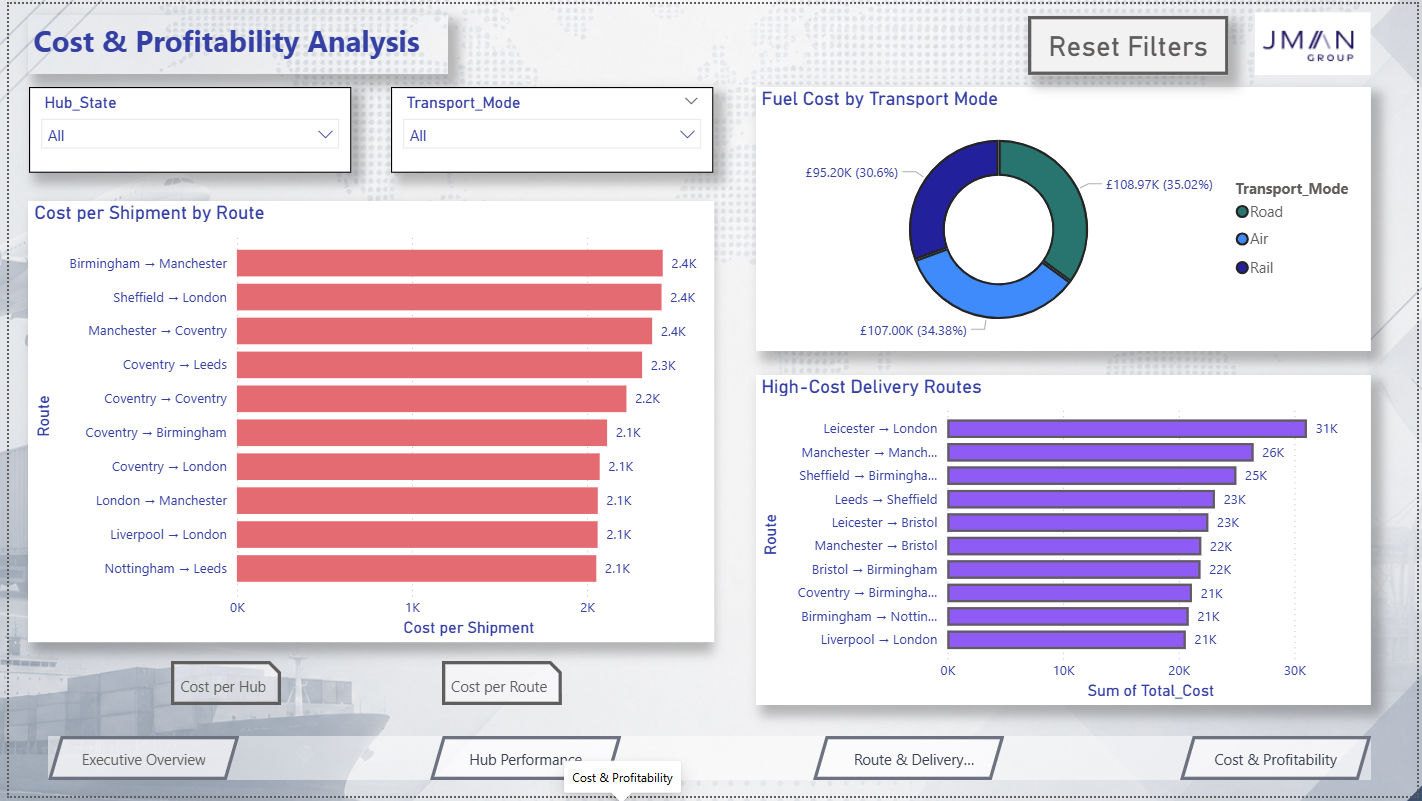

Layout of this report page (visuals, bound fields, positions):
{"tool":"powerbi","page":{"name":"Cost & Profitability","canvas":[1280,720],"ordinal":3},"visuals":[{"type":"clusteredBarChart","title":"High-Cost Delivery Routes","fields":{"Category":["Fact_Shipments.Route"],"Y":["Sum(Fact_Shipments.Total_Cost)"]},"box":[679,337,559,300],"z":0},{"type":"actionButton","box":[35,665,174,40],"z":0,"group":"g1"},{"type":"clusteredColumnChart","title":"Cost per Shipment by Hub","fields":{"Category":["Dim_hub.Hub_City"],"Y":["Fact_Shipments.Cost per Shipment"]},"box":[17,179,613,401],"z":1000},{"type":"actionButton","box":[382,665,174,40],"z":1000,"group":"g1"},{"type":"clusteredBarChart","fields":{"Category":["Fact_Shipments.Route"],"Y":["Fact_Shipments.Cost per Shipment"]},"box":[18,179,623,401],"z":2000},{"type":"actionButton","box":[730,665,174,40],"z":2000,"group":"g1"},{"type":"donutChart","title":"Fuel Cost by Transport Mode","fields":{"Category":["Fact_Shipments.Transport_Mode"],"Y":["Sum(Fact_Shipments.Fuel_Cost)"]},"box":[679,75,559,240],"z":3000},{"type":"actionButton","box":[1064,665,174,40],"z":3000,"group":"g1"},{"type":"group","id":"g1","title":"Group 1","box":[35,665,1203,40],"z":4000},{"type":"actionButton","box":[926,11.3,182.2,53.5],"z":5000},{"type":"textbox","box":[17,10,382,54],"z":6000},{"type":"slicer","fields":{"Values":["Dim_hub.Hub_State"]},"box":[18,75,293,78],"z":7000},{"type":"slicer","fields":{"Values":["Fact_Shipments.Transport_Mode"]},"box":[347,75,293,78],"z":8000},{"type":"actionButton","box":[147,597,100,40],"z":9000},{"type":"actionButton","box":[394,597,109,40],"z":10000},{"type":"image","box":[1132.6,4.7,105.2,62.9],"z":10001}]}

Visuals, with their boxes in screenshot pixels (x1, y1, x2, y2), scaled from the page's 1280x720 canvas onto the 1422x801 screenshot:
"High-Cost Delivery Routes" clusteredBarChart: rect(754, 375, 1375, 709)
actionButton: rect(39, 740, 232, 784)
"Cost per Shipment by Hub" clusteredColumnChart: rect(19, 199, 700, 645)
actionButton: rect(424, 740, 618, 784)
clusteredBarChart - Fact_Shipments.Route x Fact_Shipments.Cost per Shipment: rect(20, 199, 712, 645)
actionButton: rect(811, 740, 1004, 784)
"Fuel Cost by Transport Mode" donutChart: rect(754, 83, 1375, 350)
actionButton: rect(1182, 740, 1375, 784)
"Group 1" group: rect(39, 740, 1375, 784)
actionButton: rect(1029, 13, 1231, 72)
textbox: rect(19, 11, 443, 71)
slicer - Dim_hub.Hub_State: rect(20, 83, 346, 170)
slicer - Fact_Shipments.Transport_Mode: rect(385, 83, 711, 170)
actionButton: rect(163, 664, 274, 709)
actionButton: rect(438, 664, 559, 709)
image: rect(1258, 5, 1375, 75)
